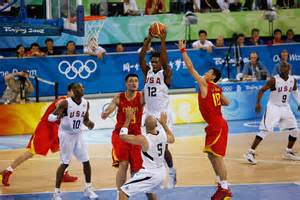basketball: (148, 20, 165, 39)
